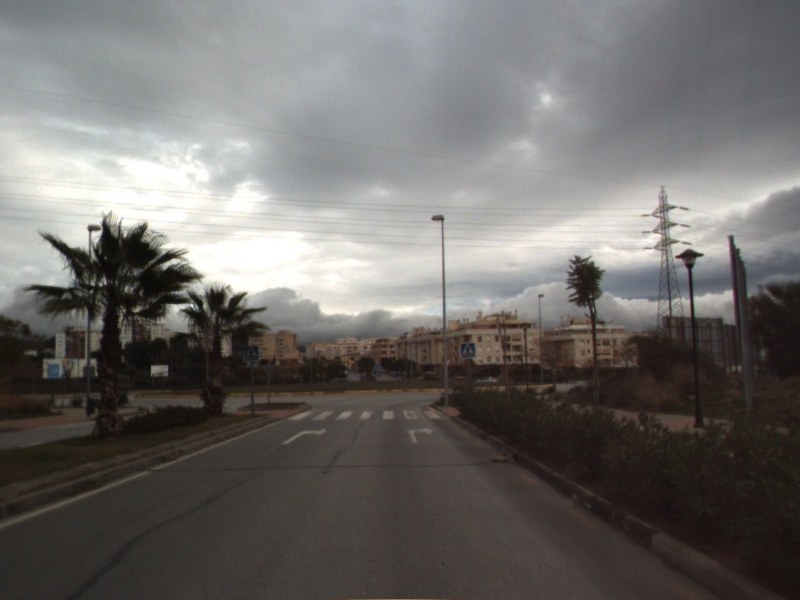RIGHT: (279, 426, 328, 447), (405, 425, 436, 445)
